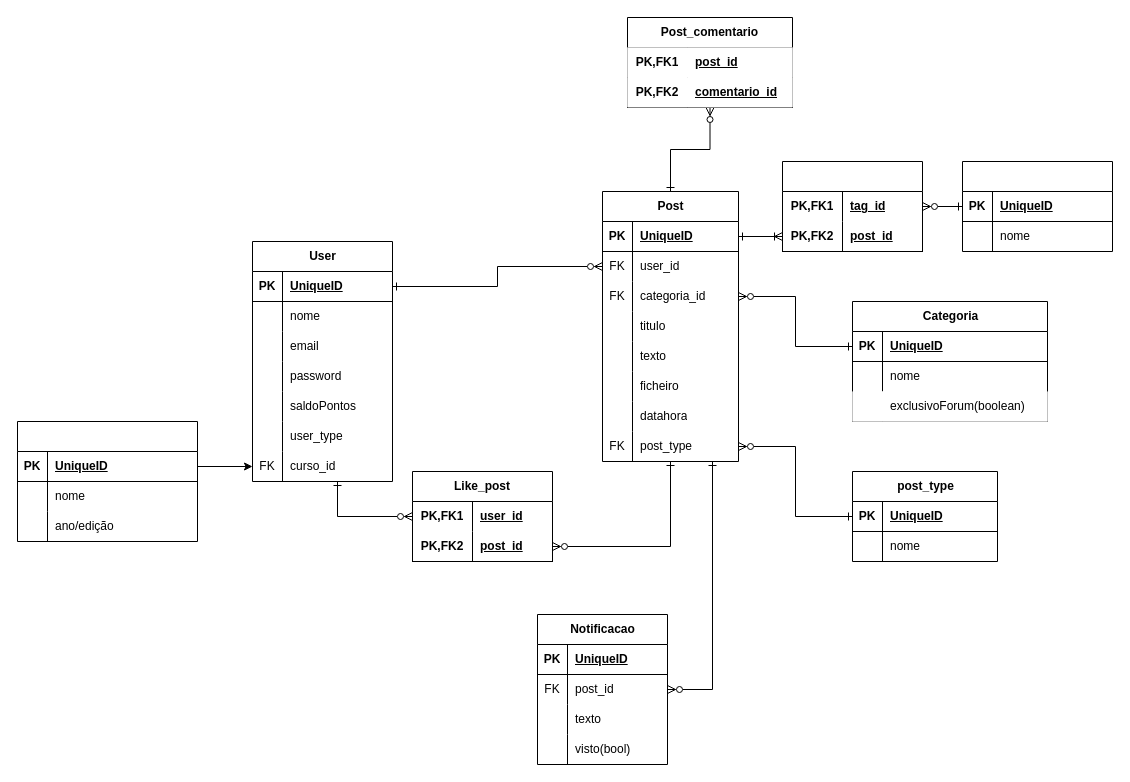
This 1130x782 diagram has some shape labels left out. Here are the shapes that lost their labels. From the top down, the box of each, then its label:
(782, 160, 922, 252): Post_Tag
(962, 160, 1112, 252): Tag
(16, 420, 198, 542): Curso
